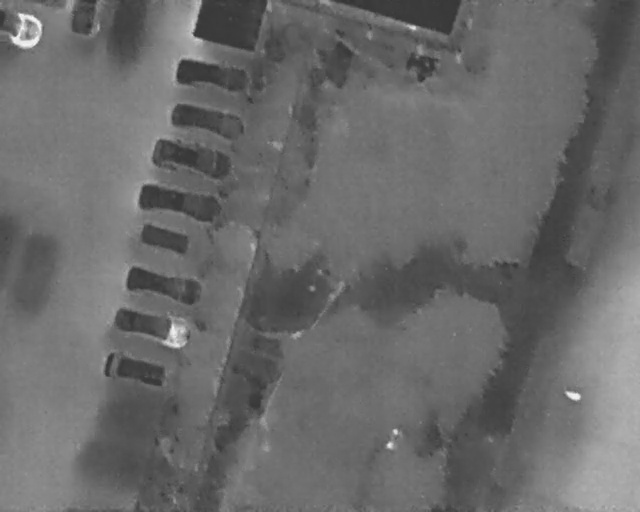Car: (149, 133, 233, 184), (135, 179, 223, 224), (121, 262, 205, 308), (111, 303, 193, 350), (165, 98, 247, 143), (174, 54, 250, 94), (101, 348, 172, 390), (0, 7, 42, 52), (68, 0, 101, 36)
